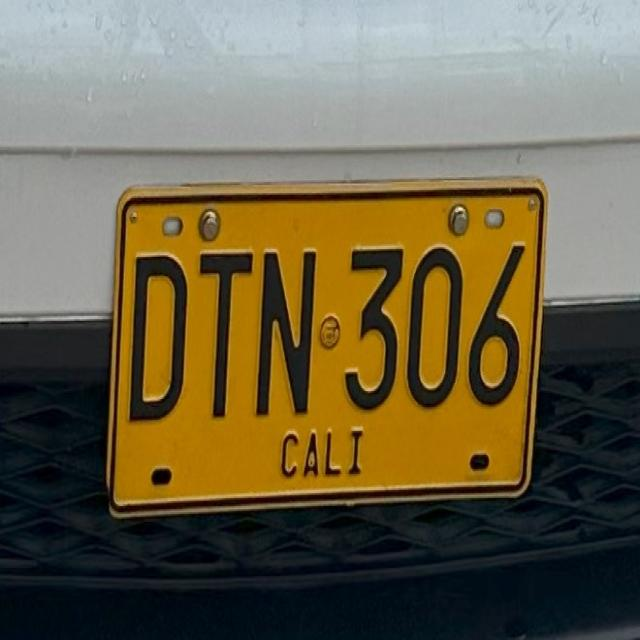number plate: (106, 179, 544, 512)
